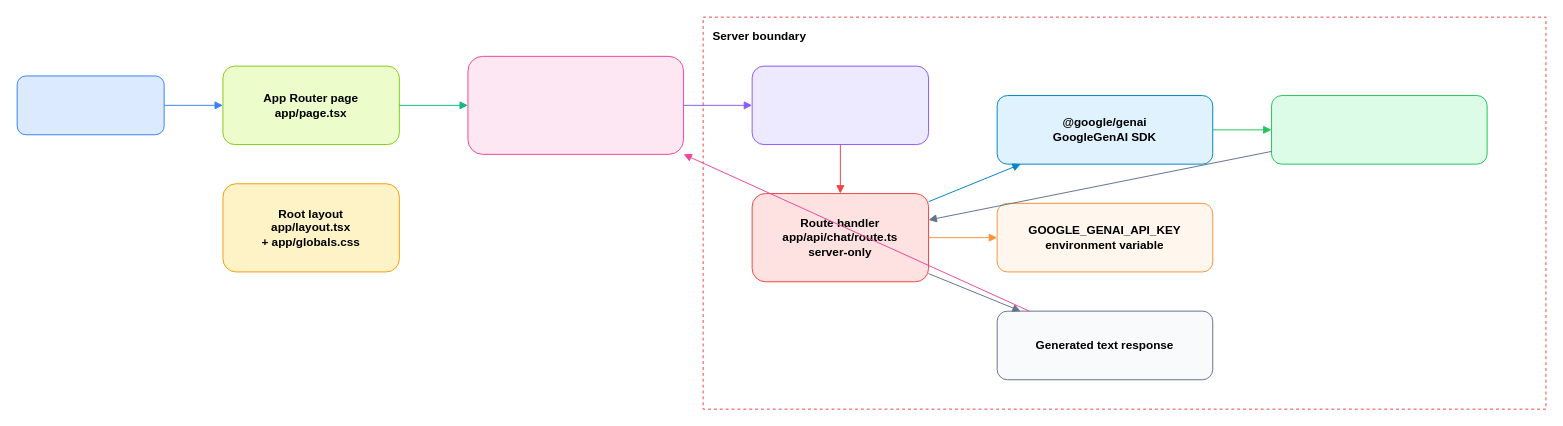
The diagram is 1563 pixels wide and 426 high, and some of its shapes have lost their labels. Each missing label, with the centre of its shape:
"Client chat UI app/components/Chat.tsx React state + events" goes at (x=575, y=104).
"Gemini model gemini-3-flash-preview" goes at (x=1379, y=129).
"POST /api/chat JSON: { messages }" goes at (x=840, y=105).
"User in browser" goes at (x=90, y=105).
